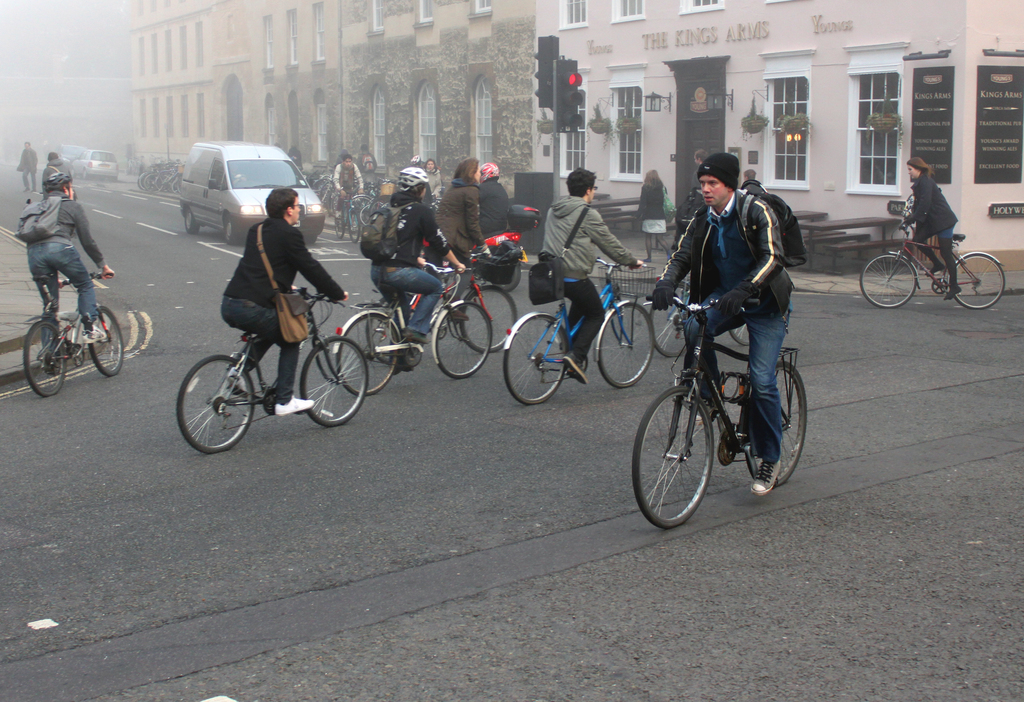Bike: (635, 289, 809, 530), (173, 288, 370, 455), (505, 255, 656, 403), (342, 265, 494, 394), (859, 223, 1008, 314), (22, 269, 125, 398)
